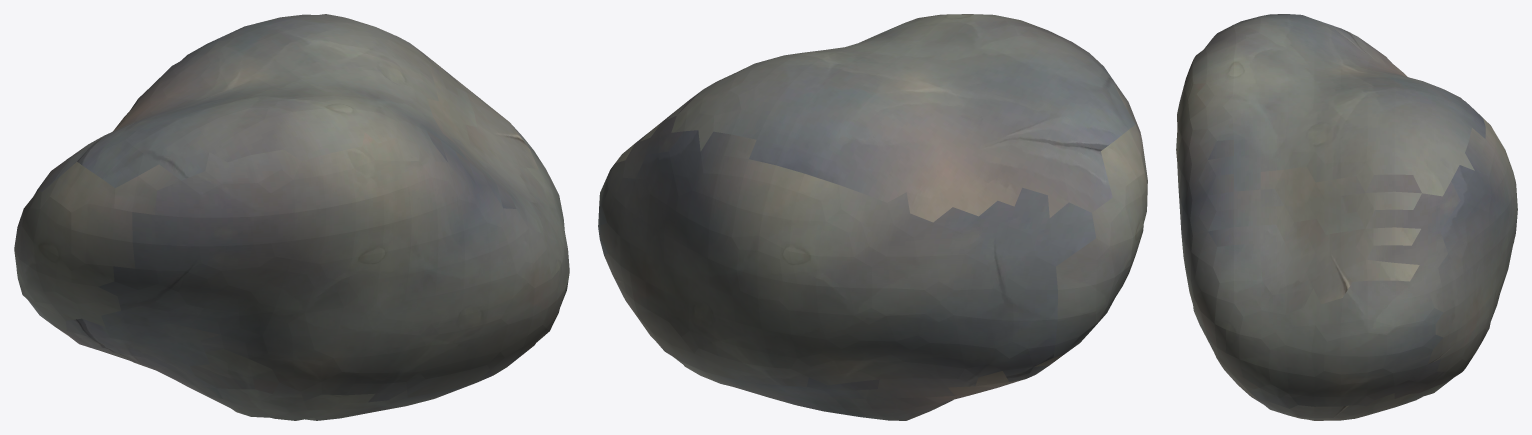
File: stone1.gltf
The picture shows the model from 3 angles, left to right: view 1: azimuth 30°, elevation 25°; view 2: azimuth 150°, elevation 25°; view 3: azimuth 270°, elevation 25°; orthographic projection. The views are drawn at different scales.
Parts seen in each view (by area): view 1: stone1_stone_LOD0; view 2: stone1_stone_LOD0; view 3: stone1_stone_LOD0.
Boxes of the visible parts, x1,y1,x2,y2 form: stone1_stone_LOD0: [14, 14, 569, 420]; stone1_stone_LOD0: [598, 14, 1147, 420]; stone1_stone_LOD0: [1176, 14, 1517, 420].
Size of what is drawn, in the model's own units: 0.589 by 0.3858 by 0.4025.
1 material, 1 textured.
